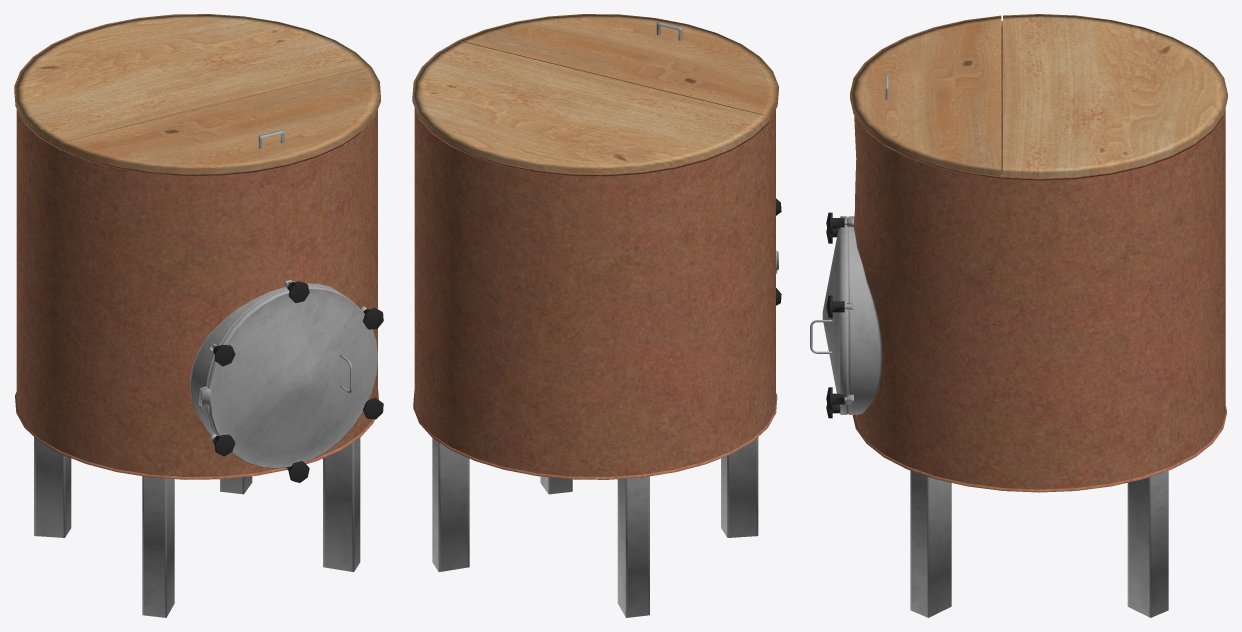
Rendered from MashTun.fbx.
3 renders of one model, left to right at view 1: azimuth 30°, elevation 25°; view 2: azimuth 150°, elevation 25°; view 3: azimuth 270°, elevation 25°, orthographic. The views are drawn at different scales.
Parts seen in each view (by area): view 1: MashTun, Manway, Lid; view 2: MashTun, Lid; view 3: MashTun, Lid, Manway.
Boxes of the visible parts, box(x1,y1,x2,y2) form: MashTun: box(14, 14, 383, 617); Manway: box(200, 286, 377, 468); Lid: box(60, 67, 380, 173); MashTun: box(412, 40, 781, 617); Lid: box(458, 14, 778, 120); MashTun: box(826, 14, 1227, 617); Lid: box(850, 15, 1001, 176); Manway: box(810, 216, 848, 414).
Bounding box in the file's own units: 139 × 196 × 154.
Materials: 1 (1 with a texture image).
